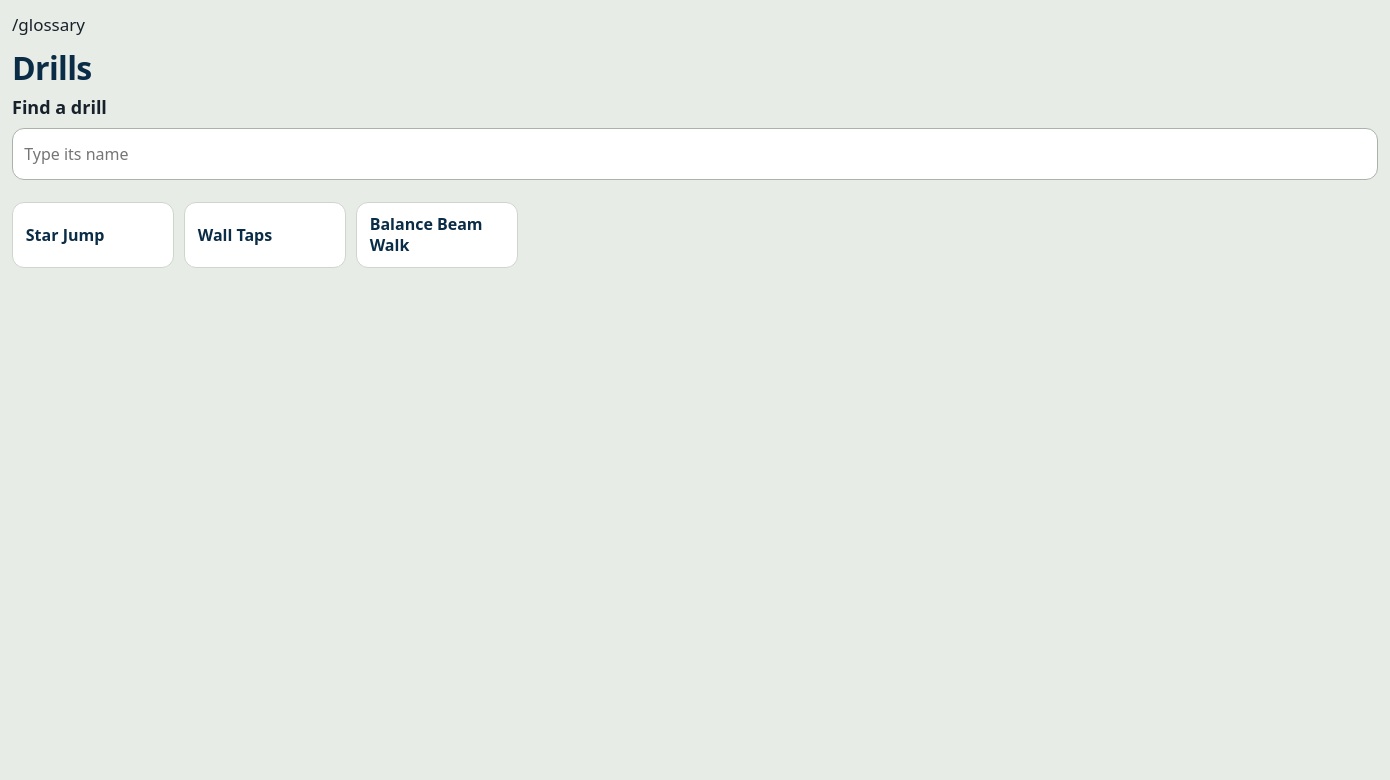
the drill glossary › opens a drill's panel with its cue, its steps and what to watch
Click the button "Star Jump" at x=93, y=235, box [12,202,174,268]
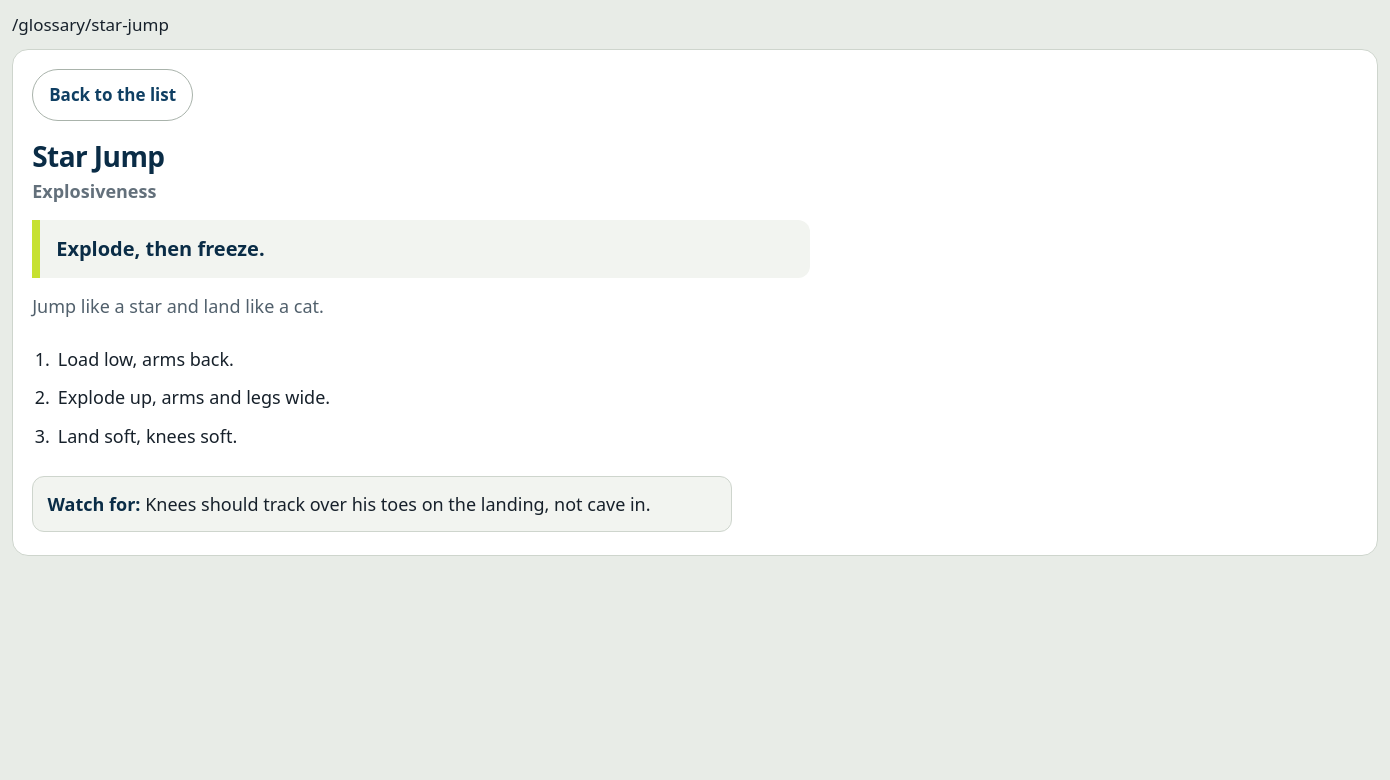
Now the text "Explode, then freeze." is shown, box [32,220,810,278]
Now the list item "Load low, arms back." is shown, box [58,347,234,371]
Now the list item "Explode up, arms and legs wide." is shown, box [58,385,330,409]
